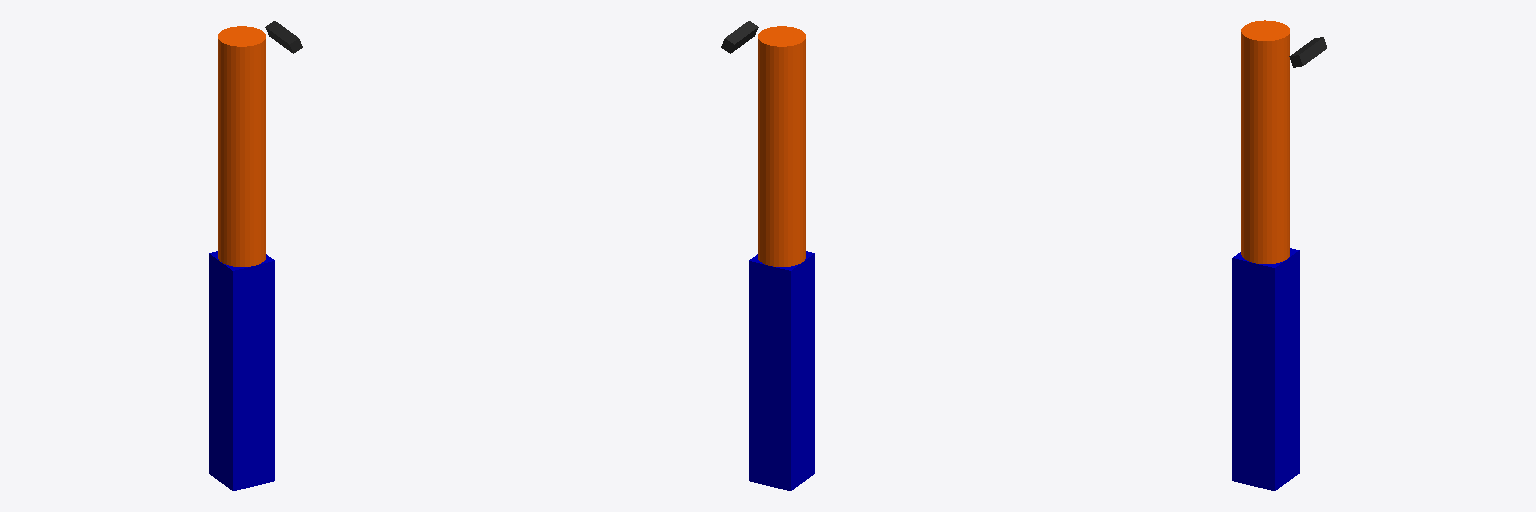
robot.urdf — one_DOF_robot:
<?xml version="1.0"?>
<robot  name="one_DOF_robot">
<!--color specification for rviz-->
<material name="blue">
  <color rgba="0.0 0.0 0.8 1.0"/>
</material>
<material name="orange">
  <color rgba="1.0 0.42 0.04 1"/>
</material>
<material name="kinect_gray">
   <color rgba="0.2 0.2 0.2 1.0"/>
</material>    

<!-- Used for fixing robot to Gazebo 'base_link' -->
  <link name="world"/>

  <joint name="glue_robot_to_world" type="fixed">
    <parent link="world"/>
    <child link="link1"/>
  </joint>

 <!-- Base Link -->
  <link name="link1">
    <collision>
      <origin xyz="0 0 0.5" rpy="0 0 0"/>
      <geometry>
       <box size="0.2 0.2 0.7"/>
      </geometry>
    </collision>

    <visual>
      <origin xyz="0 0 0.5" rpy="0 0 0"/>
      <geometry>
        <box size="0.2 0.2 1"/>
      </geometry>
      <!--this informs Rviz what color we want this link -->
     <material name="blue"/>
    </visual>

    <inertial>
      <origin xyz="0 0 0.5" rpy="0 0 0"/>
      <mass value="1"/>
      <inertia
        ixx="1.0" ixy="0.0" ixz="0.0"
        iyy="1.0" iyz="0.0"
        izz="1.0"/>
    </inertial>
  </link>
  <!-- gazebo and rviz use different color encodings; inform gazebo that we want this link to be Blue-->
  <gazebo reference="link1">
  <material>Gazebo/Blue</material>
</gazebo>

<!-- Moveable Link -->
  <link name="link2">
    <collision>
      <origin xyz="0 0 0.5" rpy="0 0 0"/>
      <geometry>
        <cylinder length="1" radius="0.1"/>
        <!--box size="0.15 0.15 0.8"-->
      </geometry>
    </collision>

    <visual>
      <origin xyz="0 0 0.5" rpy="0 0 0"/>
      <geometry>
        <cylinder length="1" radius="0.1"/>
      </geometry>
      <material name="orange"/>
    </visual>

    <inertial>
      <origin xyz="0 0 0.5" rpy="0 0 0"/>
      <mass value="1"/>
      <inertia
        ixx="0.1" ixy="0.0" ixz="0.0"
        iyy="0.1" iyz="0.0"
        izz="0.005"/>
    </inertial>
  </link>
  
    <gazebo reference="link2">
  <material>Gazebo/Orange</material>
</gazebo>

  <joint name="joint1" type="continuous">
    <parent link="link1"/>
    <child link="link2"/>
    <origin xyz="0 0 1" rpy="0 0 0"/>
    <axis xyz="0 1 0"/>
  </joint>

<!-- TRY ADDING a Kinect sensor: first the visual/collision/inertial box -->
    <link name="kinect_link">
      <collision>
          <origin xyz="0 0 0" rpy="0 0 0"/>
          <geometry>
              <!-- coarse model; a simple box -->
              <box size="0.05 0.2 0.05"/>
          </geometry>
      </collision>

      <visual>
          <origin xyz="0 0 0" rpy="0 0 0" />
          <geometry>
              <box size="0.05 0.2 0.05" />
          </geometry>
          <material name="kinect_gray"/>
      </visual>

      <inertial>
          <mass value="0.1" />
          <origin xyz="0 0 0" rpy="0 0 0"/>
          <inertia ixx="0.001" ixy="0" ixz="0" iyy="0.001" iyz="0" izz="0.001" />
      </inertial>
  </link>
  <!--the above displays a box meant to imply Kinect-->
  <!--now set the position/orientation of the above box: -->
  <joint name="kinect_joint" type="fixed">
      <axis xyz="0 1 0" />
      <!--origin xyz="0.55 0.03 1.585" rpy="0.06 0.95 0"/ -->
      <origin xyz="0.2 0.0 0.95" rpy="0.0 1.2 0"/> 
      <parent link="link2"/>
      <child link="kinect_link"/>
  </joint>
  <!-- wsn: add kinect sensor emulation-->
<gazebo reference="kinect_link">
    <sensor type="depth" name="openni_camera_camera">       
        <always_on>1</always_on>
        <visualize>true</visualize>             
        <camera>
            <horizontal_fov>1.047</horizontal_fov>  
            <image>
                <width>640</width>
                <height>480</height>
                <format>R8G8B8</format>
            </image>
            <depth_camera>

            </depth_camera>
            <clip>
                <near>0.1</near>
                <far>100</far>
            </clip>
        </camera>
        <plugin name="camera_controller" filename="libgazebo_ros_openni_kinect.so">
            <alwaysOn>true</alwaysOn>
                <updateRate>10.0</updateRate>
                <cameraName>kinect</cameraName>
                <frameName>kinect_pc_frame</frameName>                   
            <imageTopicName>rgb/image_raw</imageTopicName>
            <depthImageTopicName>depth/image_raw</depthImageTopicName>
            <pointCloudTopicName>depth/points</pointCloudTopicName>
            <cameraInfoTopicName>rgb/camera_info</cameraInfoTopicName>              
            <depthImageCameraInfoTopicName>depth/camera_info</depthImageCameraInfoTopicName>            
            <pointCloudCutoff>0.4</pointCloudCutoff>                
                <hackBaseline>0.07</hackBaseline>
                <distortionK1>0.0</distortionK1>
                <distortionK2>0.0</distortionK2>
                <distortionK3>0.0</distortionK3>
                <distortionT1>0.0</distortionT1>
                <distortionT2>0.0</distortionT2>
            <CxPrime>0.0</CxPrime>
            <Cx>0.0</Cx>
            <Cy>0.0</Cy>
            <focalLength>0.0</focalLength>
            </plugin>
    </sensor>
</gazebo>
</robot>

--- What the picture shows (computed from the rendered views, not written in the file) ---
The picture shows the robot from 3 angles, left to right: view 1: azimuth 30°, elevation 25°; view 2: azimuth 150°, elevation 25°; view 3: azimuth 330°, elevation 25°; orthographic projection.
Robot: one_DOF_robot — 4 links, 3 joints (1 continuous, 2 fixed); root link world; default pose: every joint at zero.
Visible links, largest first — view 1: link1, link2, kinect_link; view 2: link1, link2, kinect_link; view 3: link1, link2, kinect_link.
Link boxes in pixels (bbox=[...]): link1: bbox=[209, 251, 274, 490]; link2: bbox=[218, 26, 265, 266]; kinect_link: bbox=[265, 21, 302, 53]; link1: bbox=[749, 251, 814, 490]; link2: bbox=[758, 26, 805, 266]; kinect_link: bbox=[721, 21, 758, 53]; link1: bbox=[1232, 248, 1299, 490]; link2: bbox=[1241, 20, 1289, 263]; kinect_link: bbox=[1289, 37, 1326, 67].
Bounding box of the posed robot: 0.3324 × 0.2 × 2 m (x, y, z).
Geometry: primitives only (box / cylinder / sphere), no mesh files.
